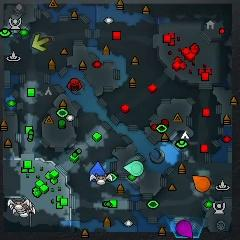p1: (90, 161, 105, 181)
p2: (122, 161, 144, 176)
p3: (176, 220, 193, 238)
p5: (192, 175, 211, 193)
x2: (32, 33, 50, 51)
